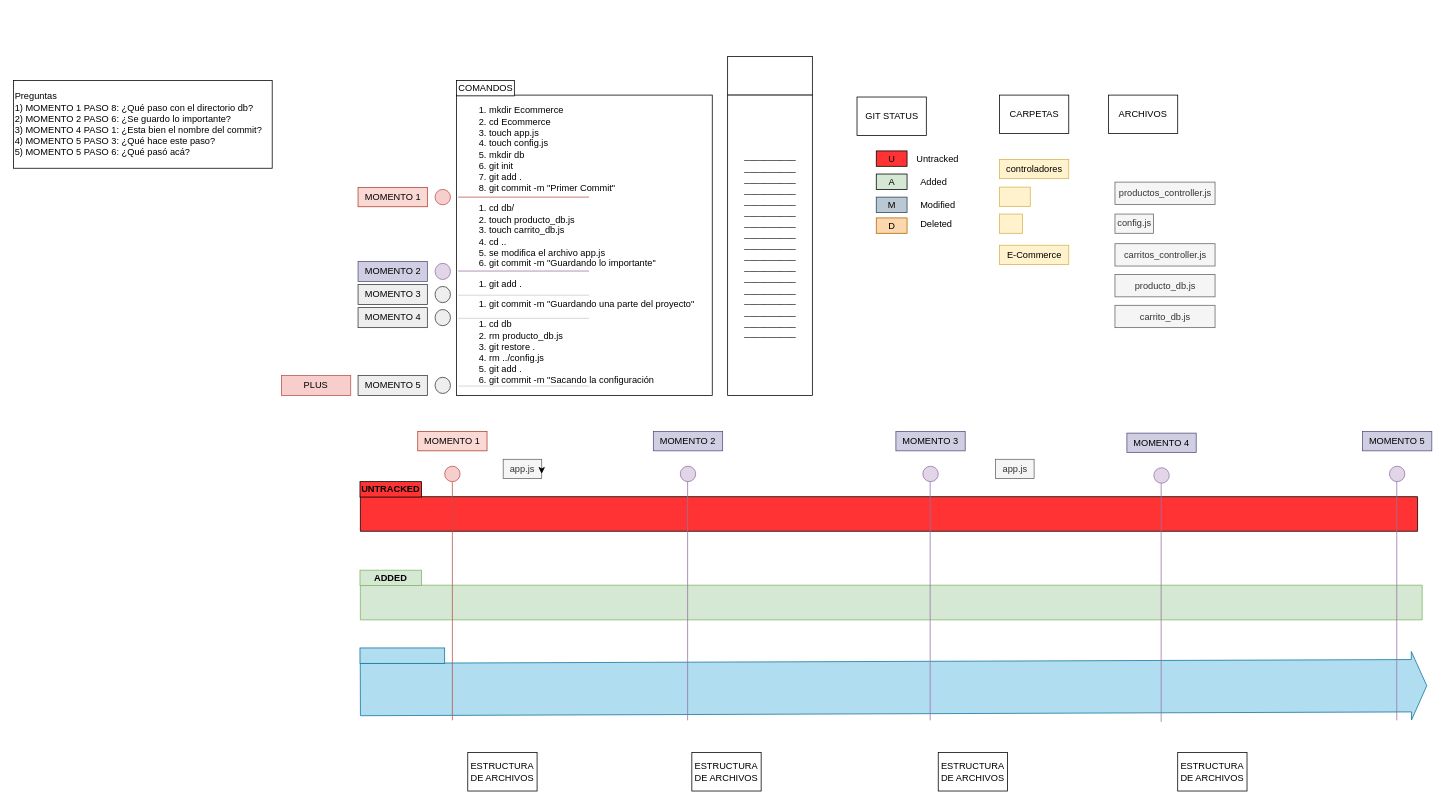
Some shapes in this 1445 by 805 pixel diagram are drawn without their labels. Each missing label, with the centre of its shape:
db: [1011,223]
DONDE ESTA PARADA LA TERMINAL: [769,75]
RAMA PRINCIPAL: [402,655]
rutas: [1014,196]
